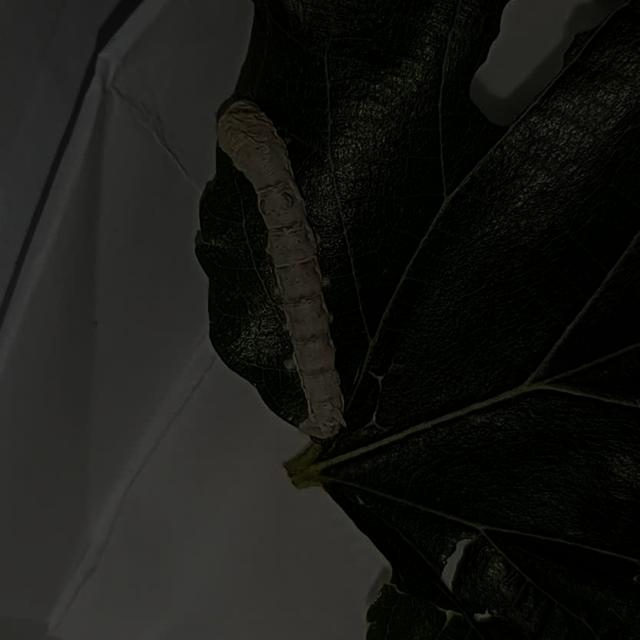Healthy: (181, 80, 399, 462)
